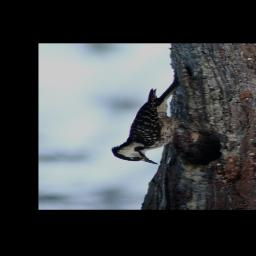Woodpecker: (110, 79, 208, 166)
